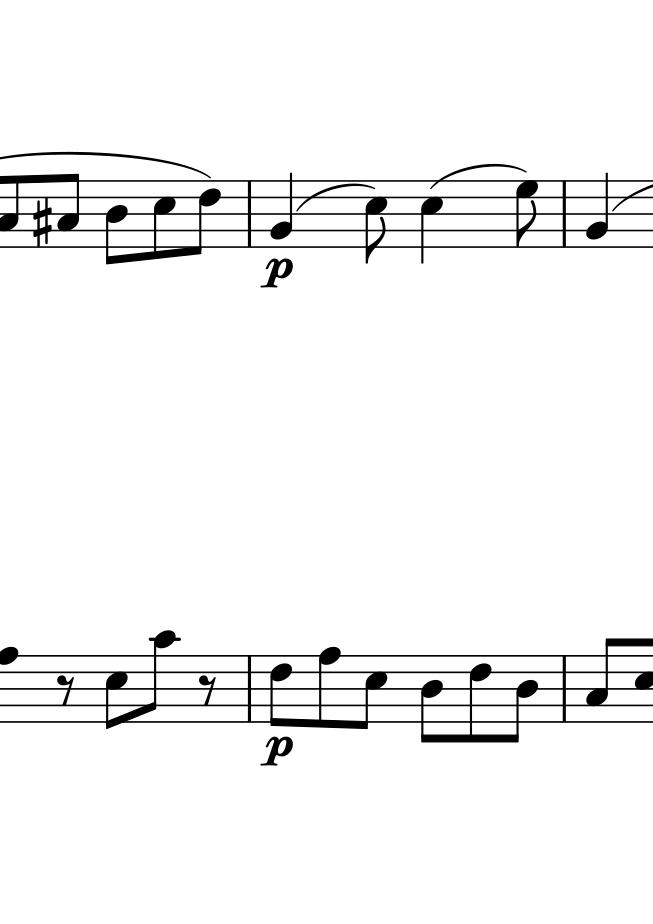4_2: (584, 171, 611, 249), (270, 171, 295, 249)
4_5: (417, 178, 443, 266)
8_10: (143, 629, 175, 725)
8_3: (582, 636, 620, 723), (57, 171, 81, 251)
8_4: (508, 654, 543, 746), (415, 653, 445, 745), (103, 179, 129, 268)
8_5: (353, 653, 390, 732), (362, 177, 388, 264), (150, 179, 177, 261), (103, 652, 127, 731)
8_6: (464, 651, 494, 746), (188, 178, 221, 258), (267, 653, 295, 728)
8_7: (514, 178, 542, 250)
8_8: (314, 644, 344, 730)
Rests8: (197, 674, 219, 707), (56, 674, 77, 704)
Sharp: (28, 197, 56, 247)
Single_barline: (241, 656, 258, 721), (556, 657, 572, 722), (241, 181, 257, 244), (557, 180, 572, 244)
Slur: (430, 162, 529, 191), (296, 183, 378, 210)
p: (260, 736, 298, 769), (262, 258, 292, 289)
